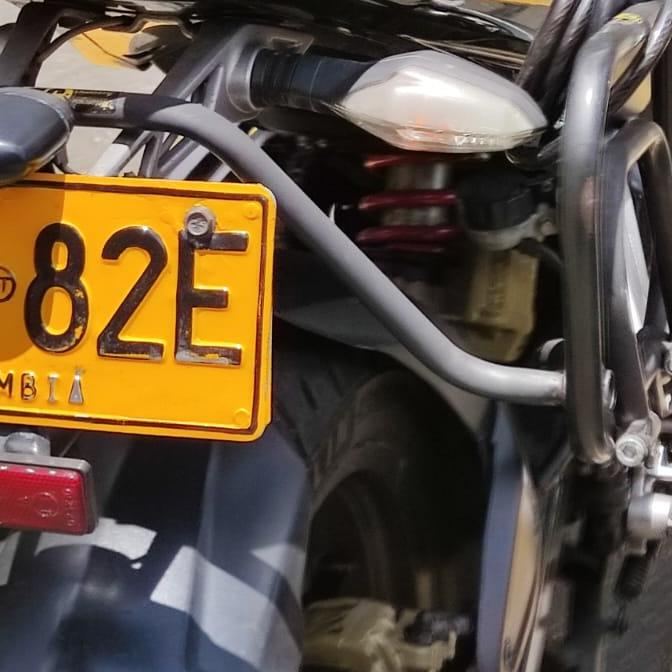plates: (0, 172, 270, 446)
